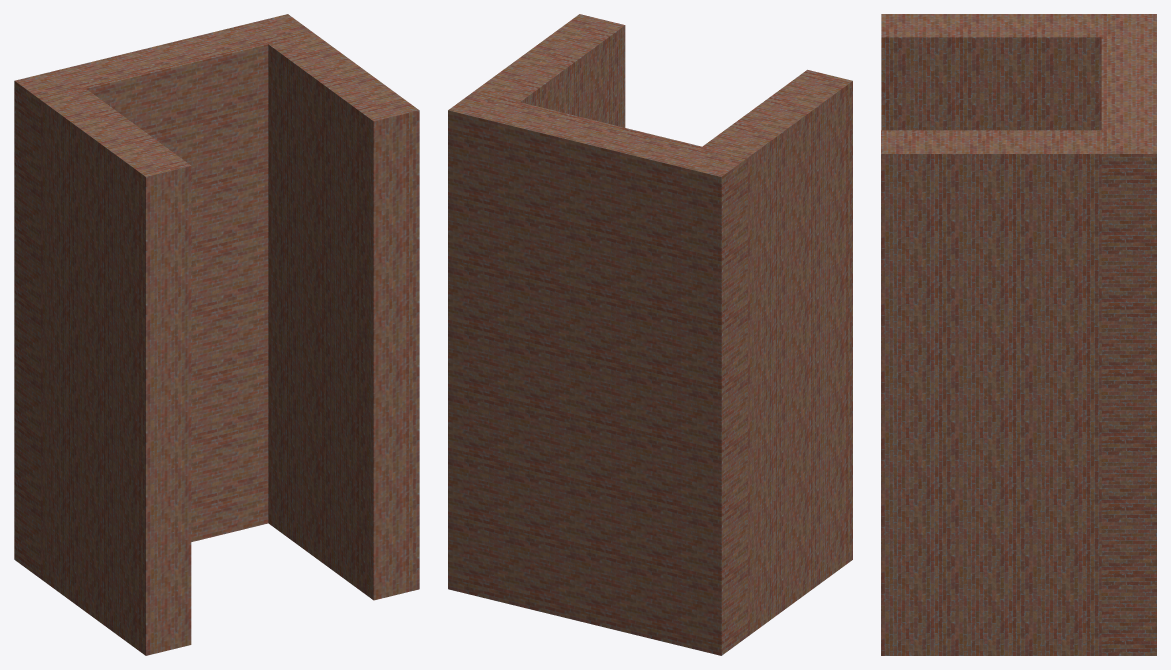
File: tunnel.obj
3 views of the same model, side by side, from view 1: azimuth 30°, elevation 25°; view 2: azimuth 150°, elevation 25°; view 3: azimuth 270°, elevation 25° (orthographic). The views are drawn at different scales.
Parts seen in each view (by area): view 1: Tunnel_Cube.001; view 2: Tunnel_Cube.001; view 3: Tunnel_Cube.001.
Part boxes in pixels (x1,y1,x2,y2): Tunnel_Cube.001: (14, 14, 419, 655); Tunnel_Cube.001: (448, 14, 852, 655); Tunnel_Cube.001: (881, 14, 1156, 655).
Size of the model in its own units: 9.61 by 16.08 by 8.01.
